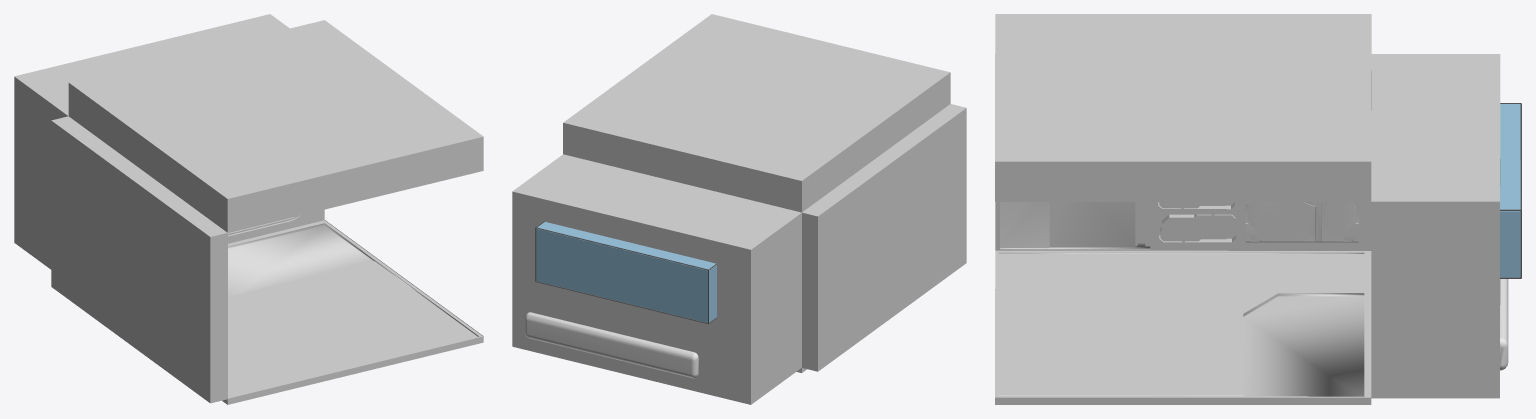
The model's file is spaceship.fbx.
3 renders of one model, left to right at view 1: azimuth 30°, elevation 25°; view 2: azimuth 150°, elevation 25°; view 3: azimuth 270°, elevation 25°, orthographic. The views are drawn at different scales.
Visible parts, largest first — view 1: Bed Top Light; view 2: Bed Top Light; view 3: Bed Top Light.
Boxes of the visible parts, x1,y1,x2,y2 form: Bed Top Light: (14, 14, 483, 404); Bed Top Light: (512, 14, 966, 404); Bed Top Light: (995, 14, 1521, 404).
Bounding box in the file's own units: 623 × 448 × 880.
